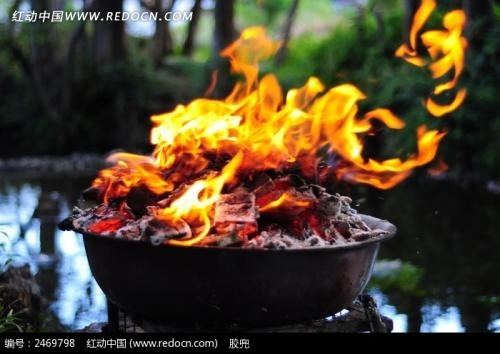fire: (132, 33, 454, 234)
